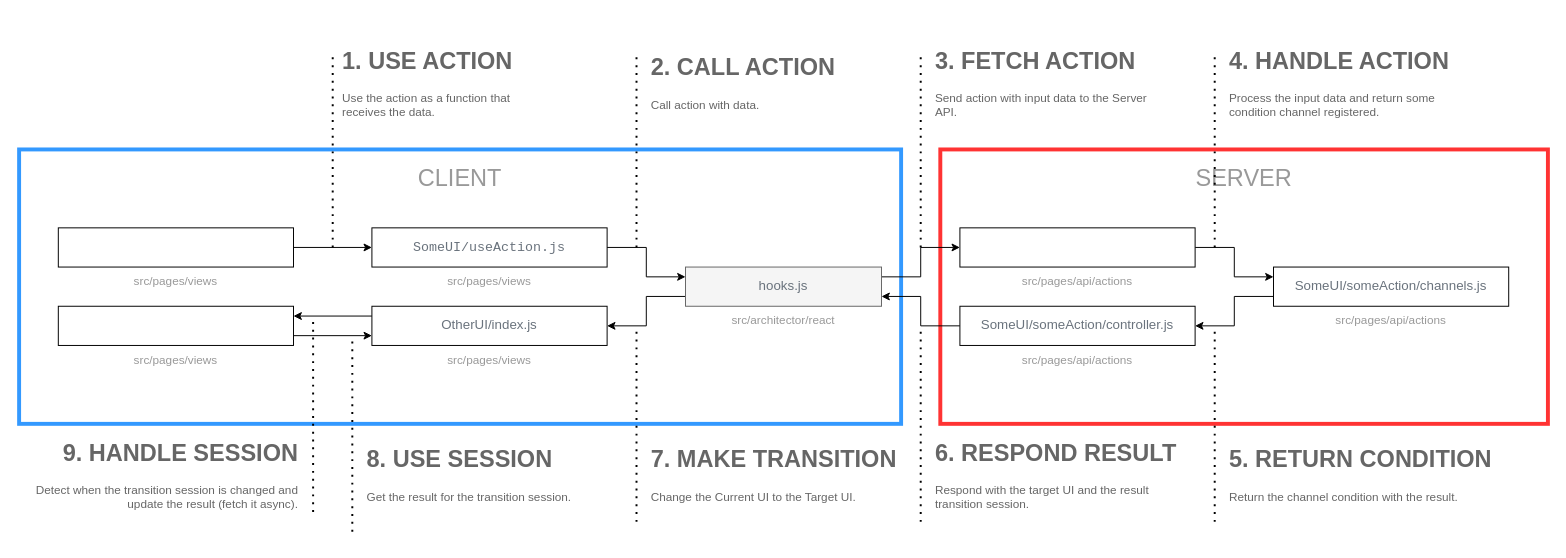
Image size: 1566x558. Some labels were removed from this diagram. Each missing label, with the centre of its shape:
"OtherUI/useSession.js" belongs at point 175,325.
"SomeUI/index.js" belongs at point 175,247.
"SomeUI/someAction/index.js" belongs at point 1077,247.
